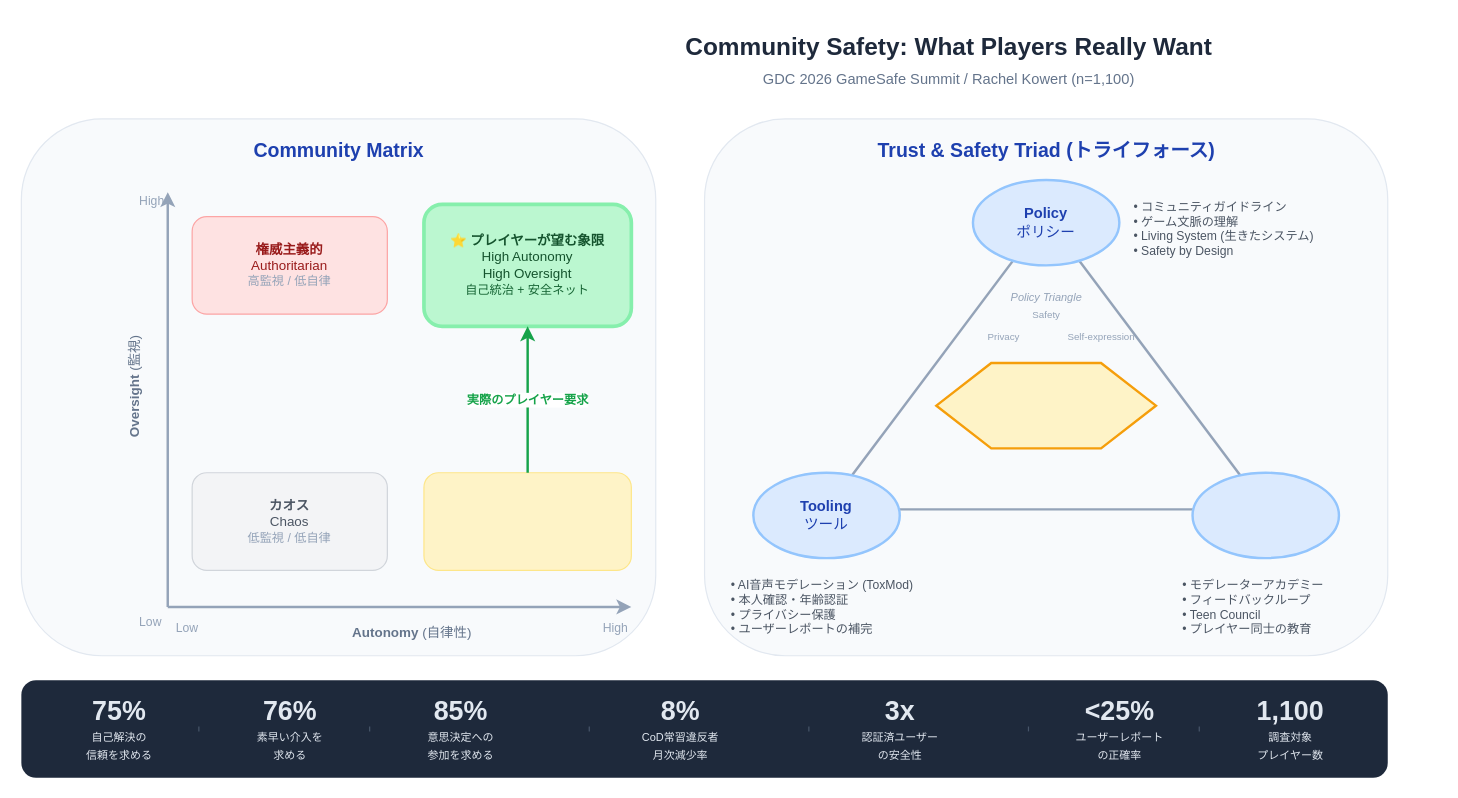
This 1458x798 diagram has some shape labels left out. Here are the shapes that lost their labels. From the top down, the box of each, then its label:
(935, 361, 1157, 449): “True autonomy requires competent oversight” 真の自律性には有能な監視が必要
(423, 472, 631, 570): ⚠️ 従来の想定 Wild West 低監視 / 高自律
(1191, 471, 1340, 559): Education 教育
